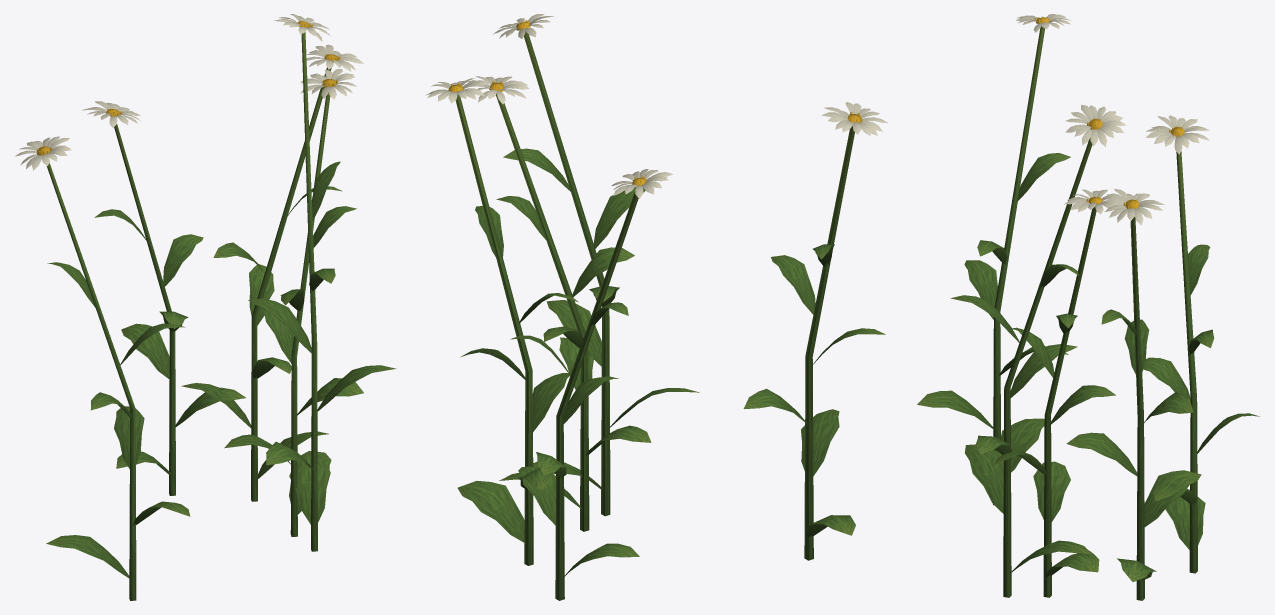
Rendered from OxeyeDaisy_B.fbx.
3 views of the same model, side by side, from view 1: azimuth 30°, elevation 25°; view 2: azimuth 150°, elevation 25°; view 3: azimuth 270°, elevation 25° (orthographic). The views are drawn at different scales.
Parts seen in each view (by area): view 1: OxeyeDaisy_B_LOD0; view 2: OxeyeDaisy_B_LOD0; view 3: OxeyeDaisy_B_LOD0.
Part boxes in pixels (x1,y1,x2,y2): OxeyeDaisy_B_LOD0: (15, 14, 396, 600); OxeyeDaisy_B_LOD0: (426, 14, 887, 600); OxeyeDaisy_B_LOD0: (917, 14, 1259, 600).
Size of what is drawn, in the model's own units: 26.28 by 32.68 by 20.46.
Materials: 1 (1 with a texture image).
